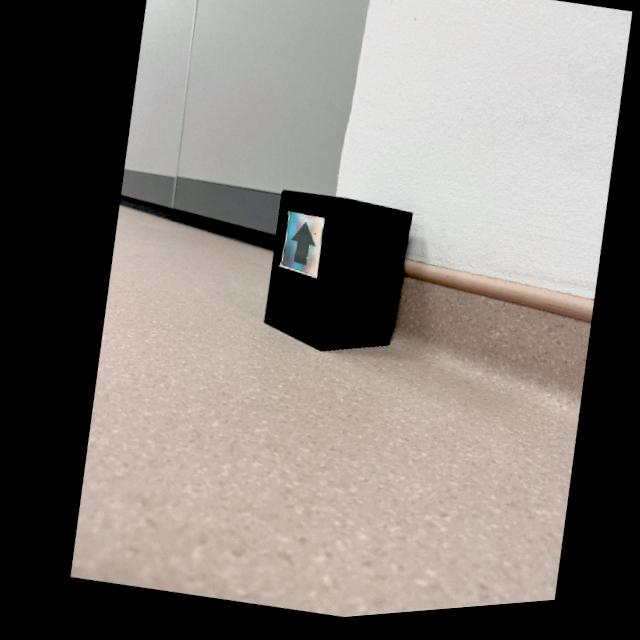UP: (285, 227, 309, 270)
